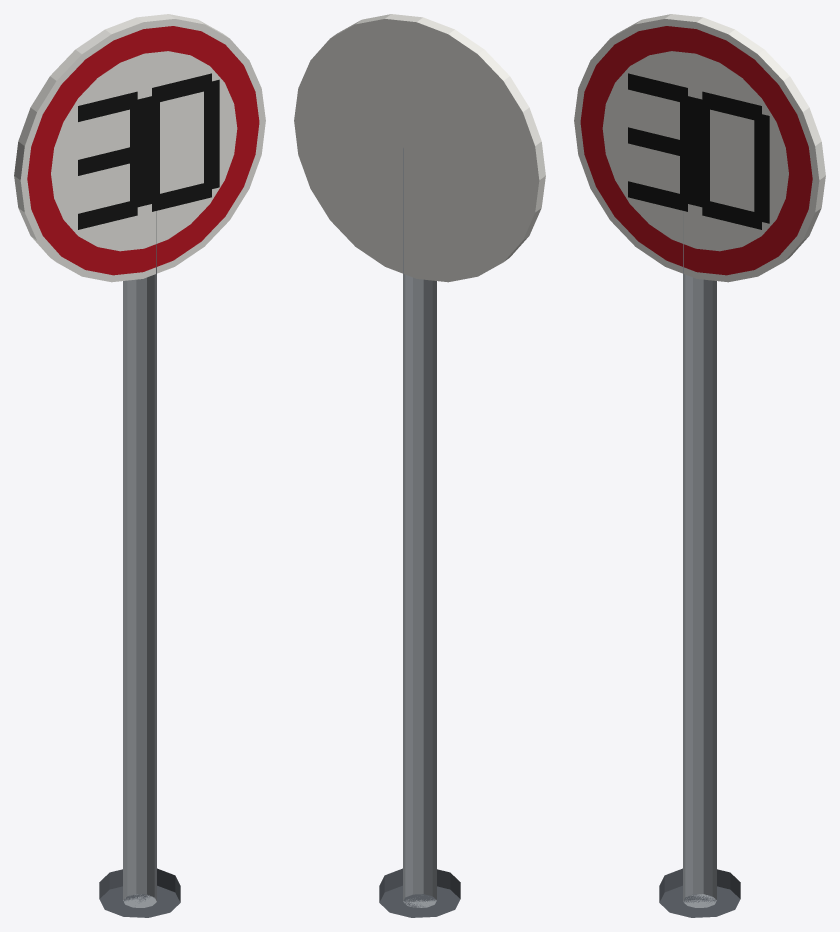
The model's file is sign-speed-30.glb.
3 views of the same model, side by side, from view 1: azimuth 30°, elevation 25°; view 2: azimuth 150°, elevation 25°; view 3: azimuth 330°, elevation 25° (orthographic).
Visible parts, largest first — view 1: sign-speed-30; view 2: sign-speed-30; view 3: sign-speed-30.
Boxes of the visible parts, x1=… form: sign-speed-30: x1=14, y1=14, x2=265, y2=917; sign-speed-30: x1=294, y1=14, x2=545, y2=917; sign-speed-30: x1=574, y1=14, x2=825, y2=917.
Bounding box in the file's own units: 0.75 × 2.58 × 0.2054.
